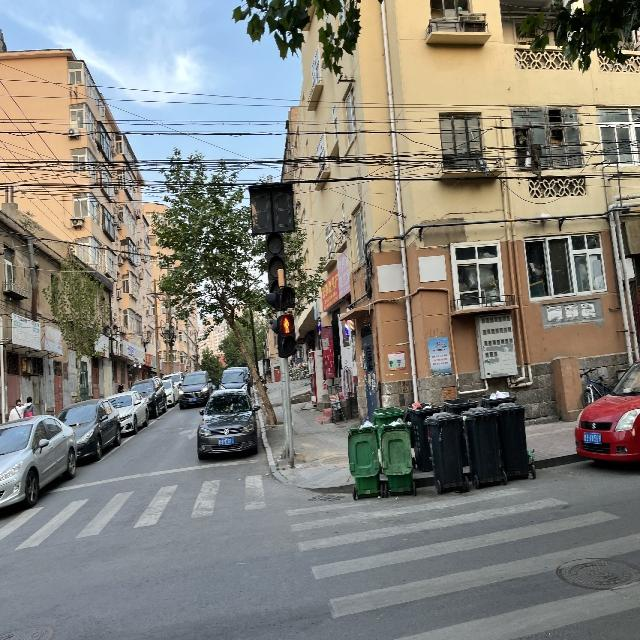garbage_bin: (423, 411, 465, 489), (462, 406, 498, 485), (494, 402, 529, 479), (374, 407, 404, 448)
overflow: (346, 420, 379, 494), (380, 417, 412, 493), (408, 401, 438, 471)
